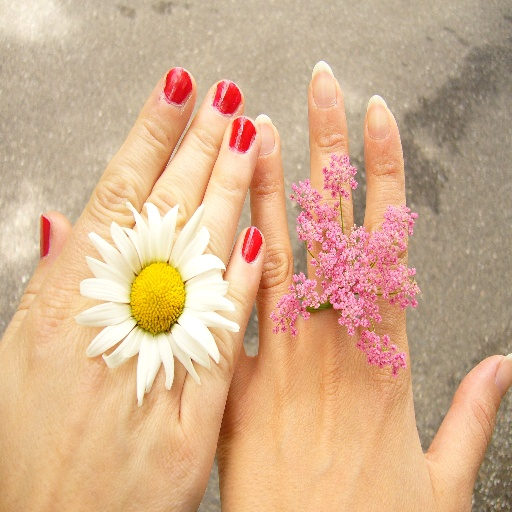hand: (215, 57, 511, 511), (0, 65, 268, 511)
